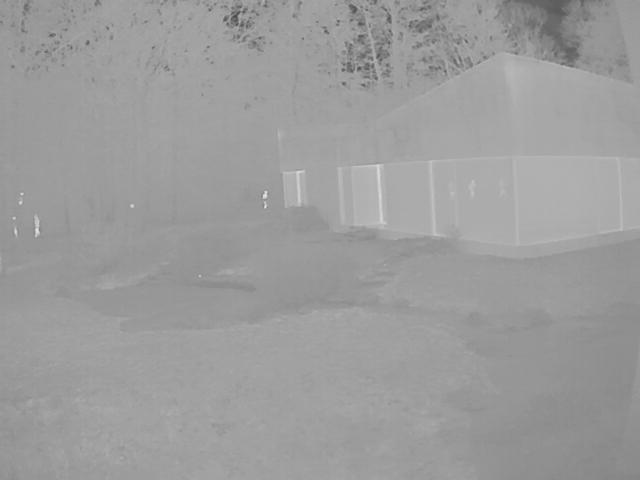person: (469, 179, 479, 199), (34, 212, 42, 237)
